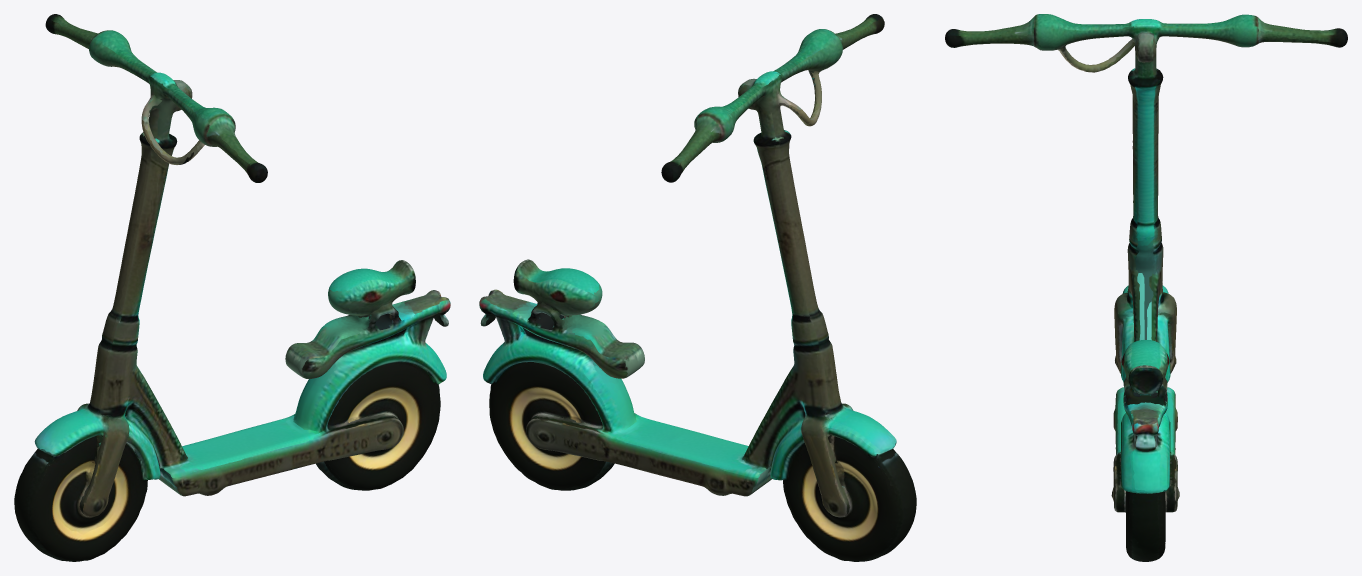
File: vehicle-suburb-scooter-mesh.glb
3 views of the same model, side by side, from view 1: azimuth 30°, elevation 25°; view 2: azimuth 150°, elevation 25°; view 3: azimuth 270°, elevation 25° (orthographic). The views are drawn at different scales.
Visible parts, largest first — view 1: tmpf4jqz_fz.ply; view 2: tmpf4jqz_fz.ply; view 3: tmpf4jqz_fz.ply.
Part boxes in pixels (x1=…): tmpf4jqz_fz.ply: x1=14, y1=14, x2=450, y2=561; tmpf4jqz_fz.ply: x1=479, y1=14, x2=916, y2=561; tmpf4jqz_fz.ply: x1=945, y1=14, x2=1347, y2=561.
Size of the model in its own units: 0.7915 by 0.8244 by 0.6803.
1 material, 1 textured.
